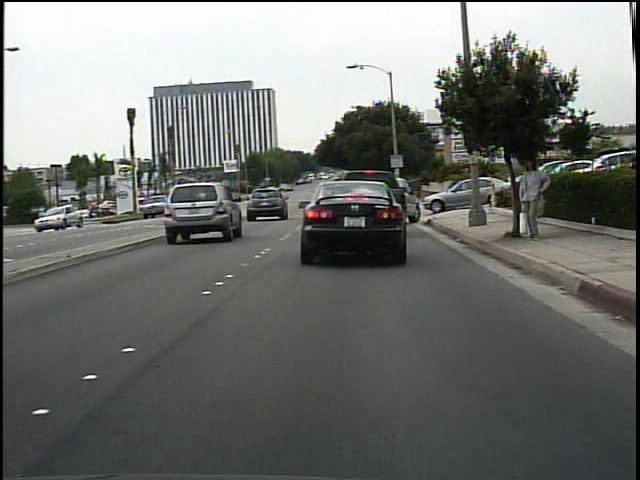person: (514, 153, 552, 244)
